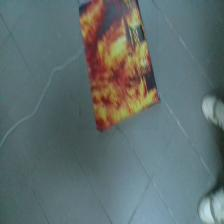fire-poster: (79, 0, 159, 130)
